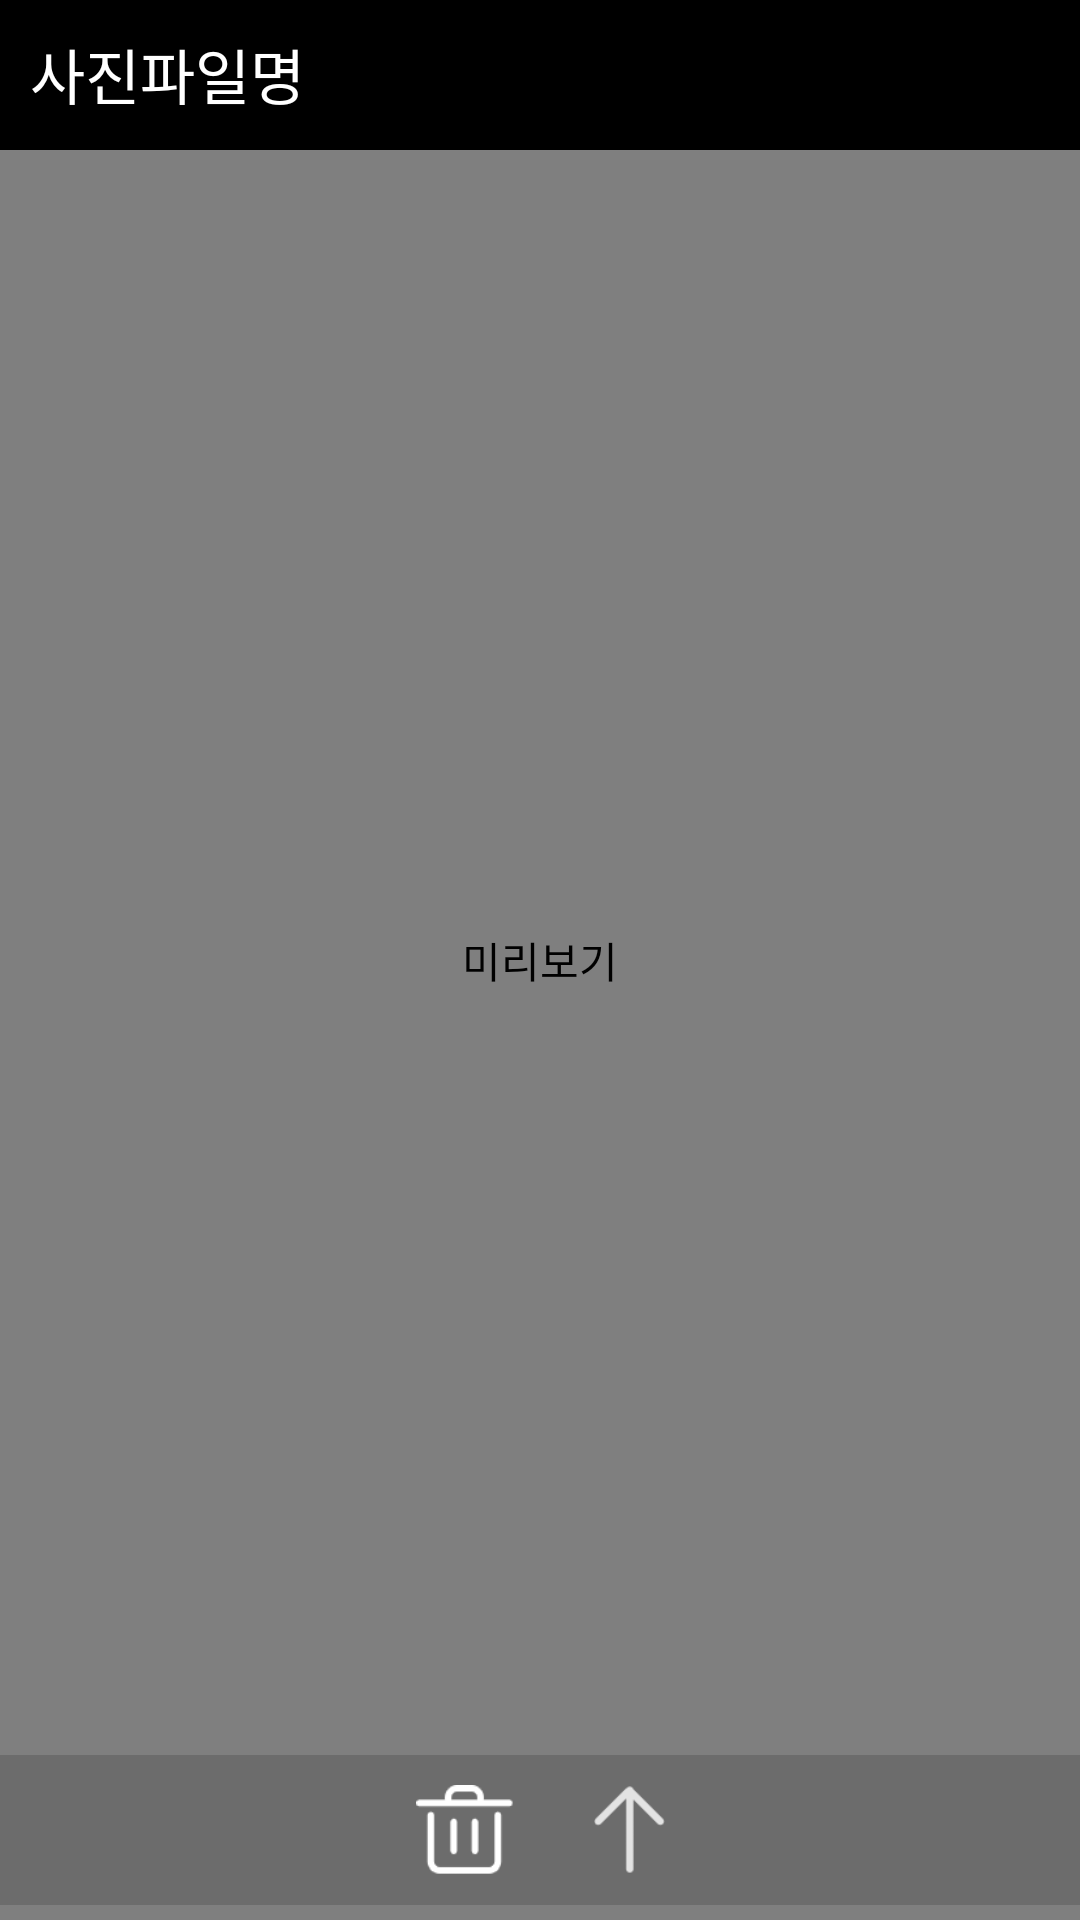

Screen size 1080×1920. Icon name, then its box in pixels as (x1, y1, x2, y2):
del: (416, 1785, 513, 1874)
send: (594, 1786, 664, 1873)
